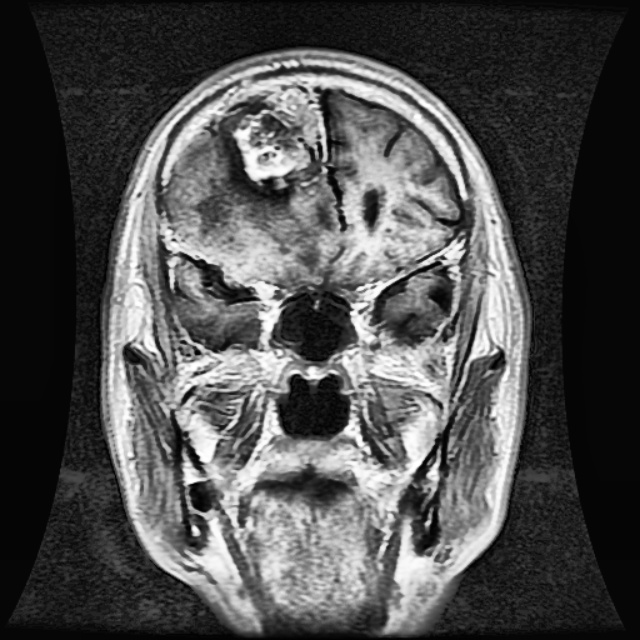Glioma: (234, 87, 327, 179)
